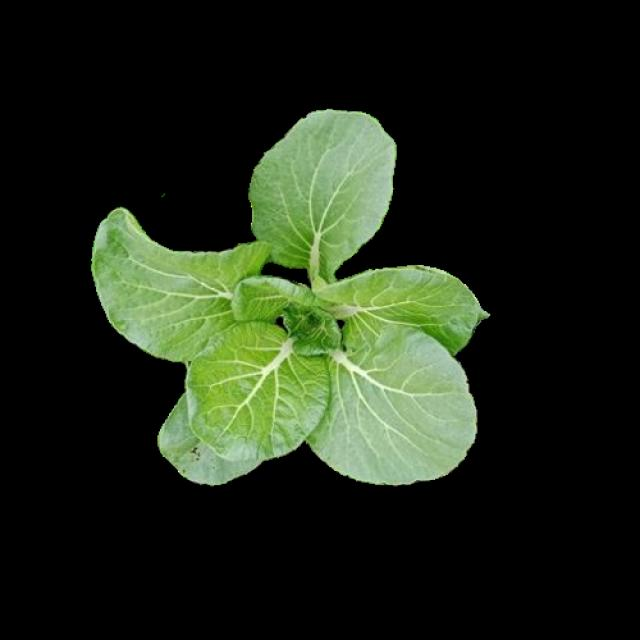mature: (94, 111, 478, 485)
unhealthy: (159, 368, 283, 487)
